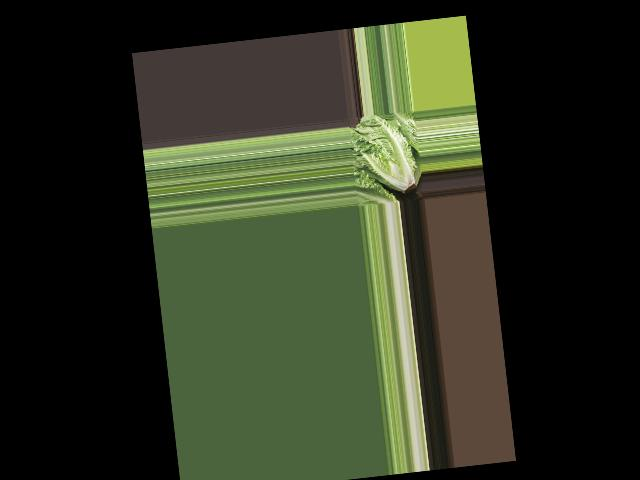lettuce: (352, 111, 424, 201)
